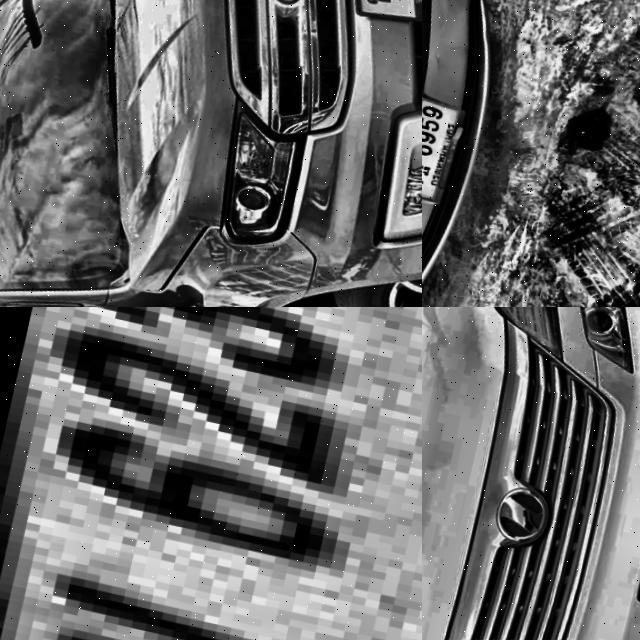license-plate: (0, 307, 422, 640), (422, 88, 475, 206)
